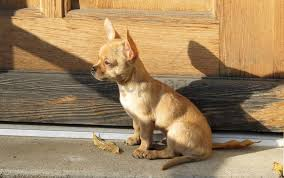dog_sitting: (90, 16, 262, 170)
